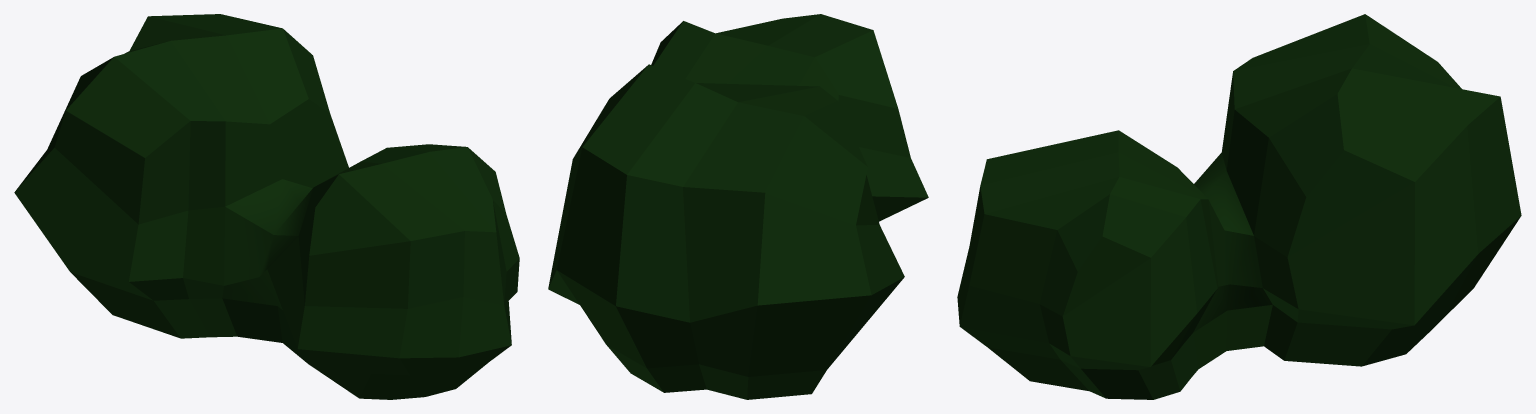
Rendered from Bush_2.FBX.
3 renders of one model, left to right at view 1: azimuth 30°, elevation 25°; view 2: azimuth 150°, elevation 25°; view 3: azimuth 270°, elevation 25°, orthographic. The views are drawn at different scales.
Visible parts, largest first — view 1: Bush_2; view 2: Bush_2; view 3: Bush_2.
Boxes of the visible parts, x1,y1,x2,y2 form: Bush_2: (14,14,519,399); Bush_2: (548,14,928,399); Bush_2: (957,14,1521,399).
Bounding box in the file's own units: 44.04 × 31.28 × 58.45.
